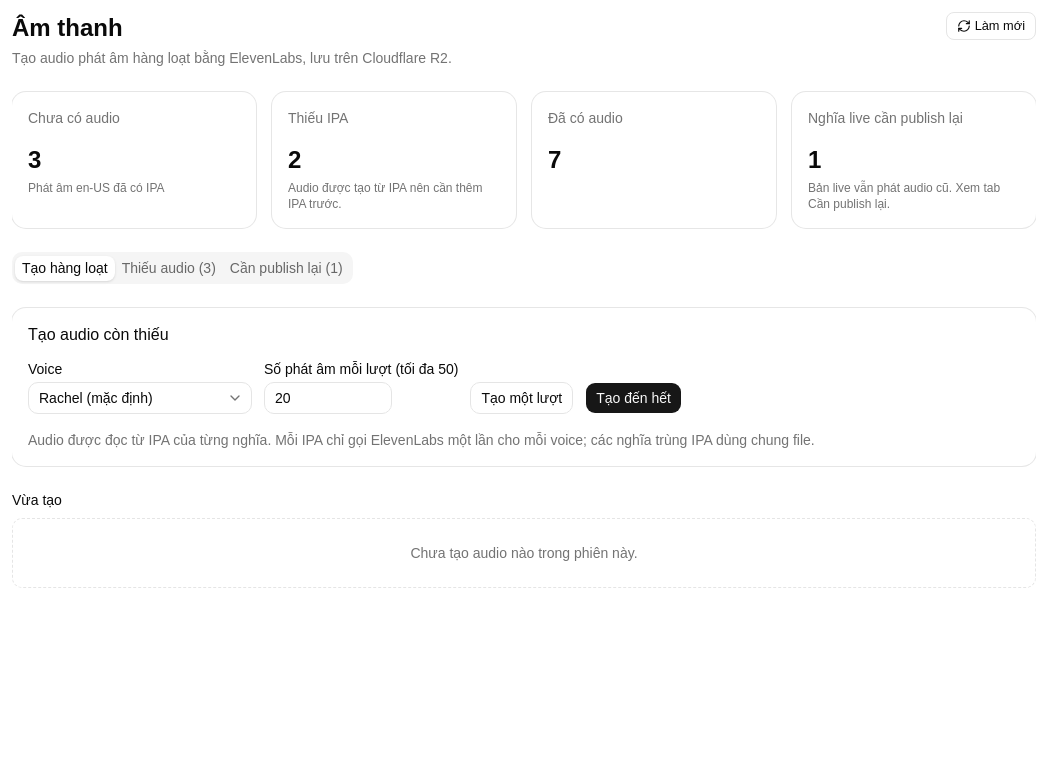
it: AudioPage › keeps generating until nothing remains, and lists failures
Expected: the text "3" is shown, [28,146,41,173]
Replace the text in the number field labelled "Số phát âm mỗi lượt (tối đa 50)" with "2" at (328, 398), box [264,382,392,414]
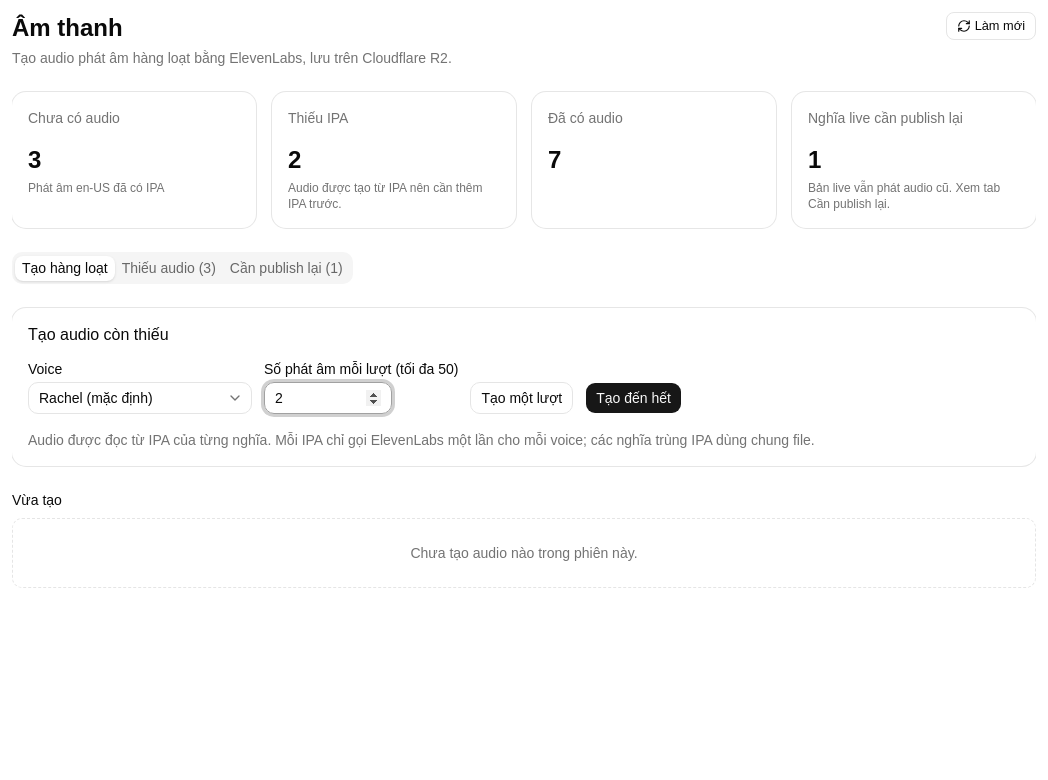
Click the button "Tạo đến hết" at (634, 398), box [585,382,682,414]
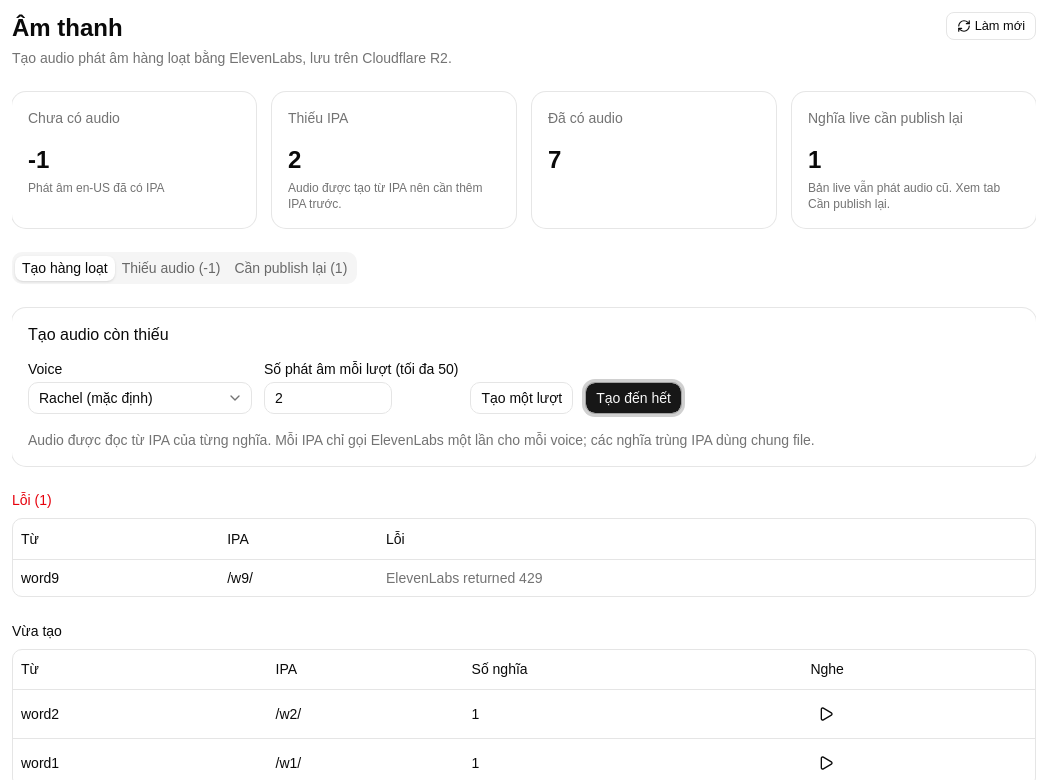
Now the link "word2" is shown, box [21,706,59,722]
Now the text "ElevenLabs returned 429" is shown, box [386,570,542,586]
